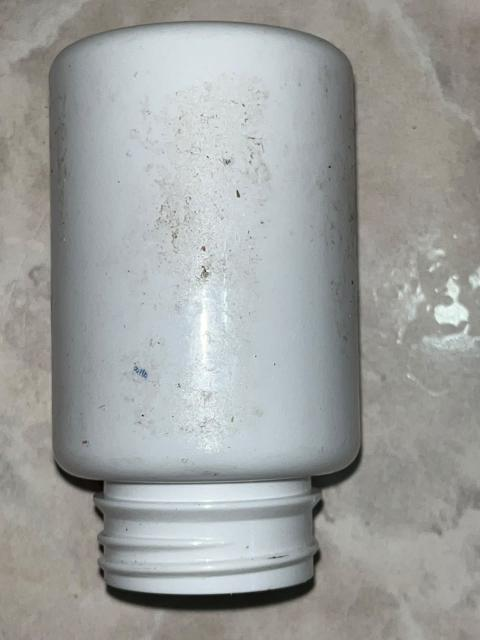HDPE: (29, 11, 401, 598)
